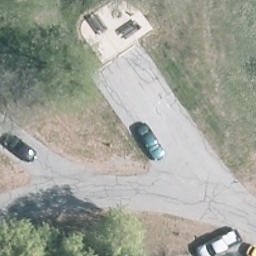car: (128, 122, 166, 164), (0, 133, 36, 162)
